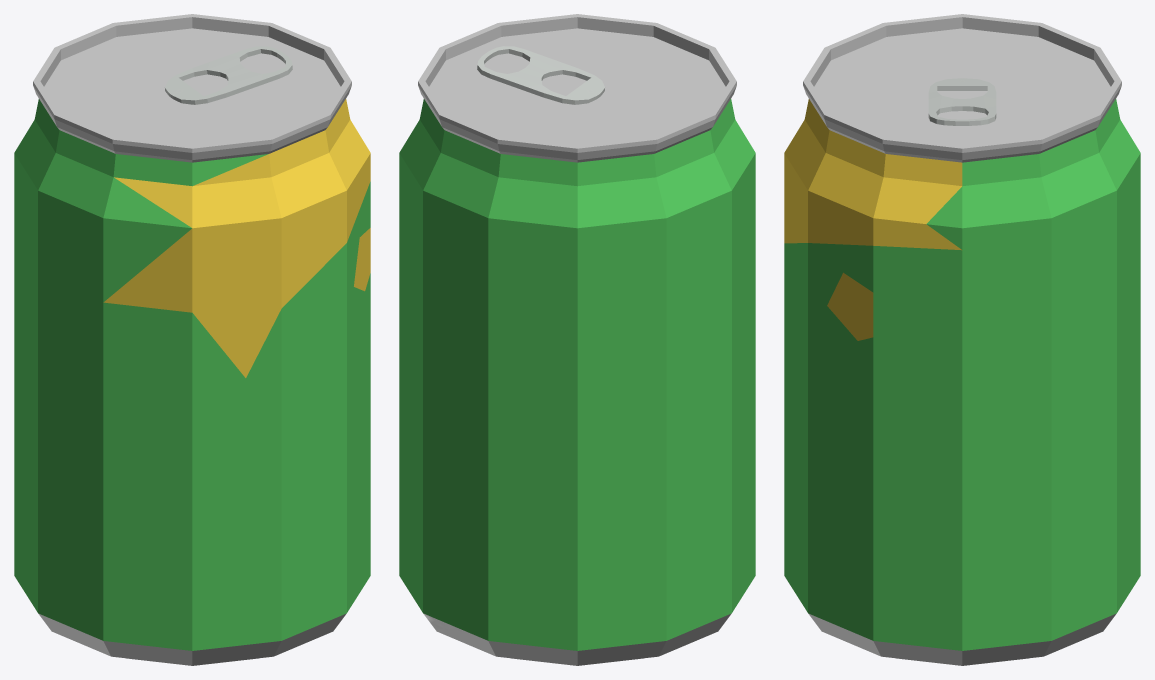
File: sprite_can_0402.fbx
3 views of the same model, side by side, from view 1: azimuth 30°, elevation 25°; view 2: azimuth 150°, elevation 25°; view 3: azimuth 270°, elevation 25° (orthographic).
Visible parts, largest first — view 1: Cylinder001; view 2: Cylinder001; view 3: Cylinder001.
Boxes of the visible parts, bbox=[...] form: Cylinder001: bbox=[14, 14, 370, 665]; Cylinder001: bbox=[399, 14, 755, 665]; Cylinder001: bbox=[784, 14, 1140, 665].
Size of the model in its own units: 13.66 by 22.56 by 13.66.
Materials: 1 (1 with a texture image).
